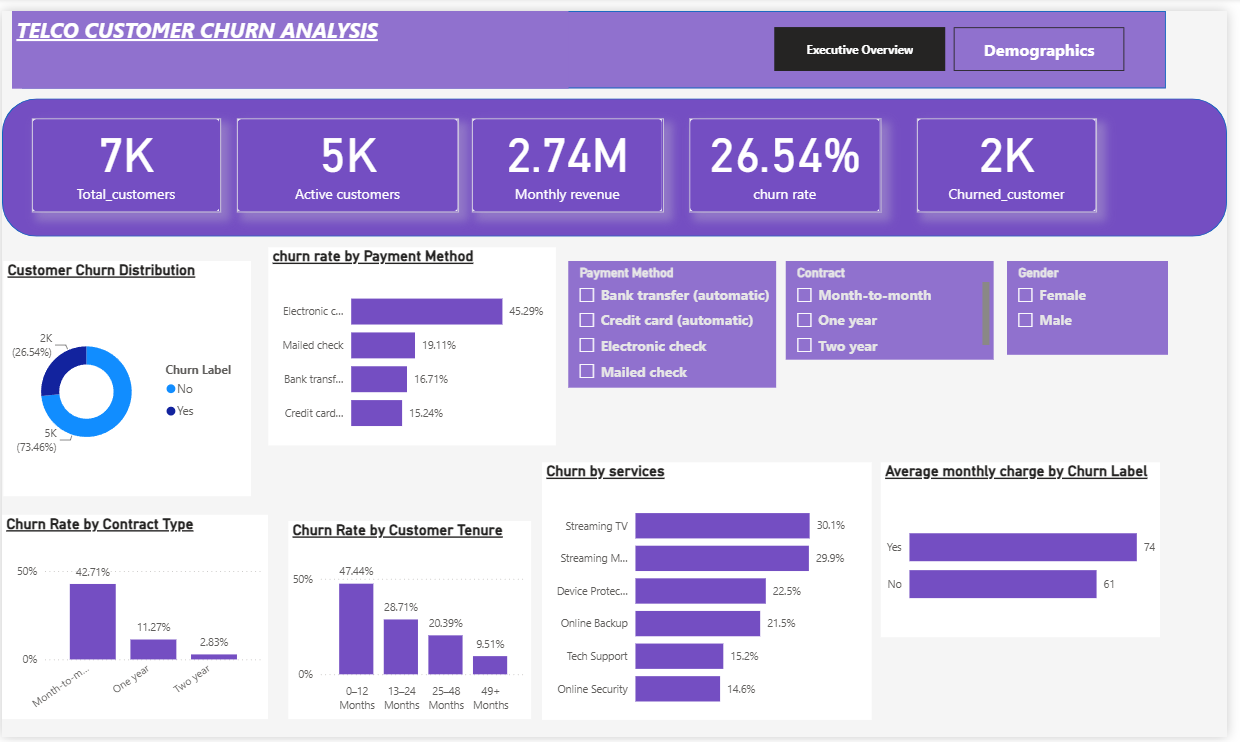

The page's visual inventory and layout, read from the dashboard file:
{"tool":"powerbi","page":{"name":"Executive Overview","canvas":[1400,830],"ordinal":0},"visuals":[{"type":"donutChart","title":"Customer Churn Distribution","fields":{"Category":["Telco_customer_churn.Churn Label"],"Y":["Telco_customer_churn.Total_customers"]},"box":[1.4,285.5,283.5,268.4],"z":1000},{"type":"clusteredColumnChart","title":"Churn Rate by Contract Type","fields":{"Category":["Telco_customer_churn.Contract"],"Y":["Telco_customer_churn.churn rate"]},"box":[0,575.4,304.3,233.3],"z":2000},{"type":"clusteredColumnChart","title":"Churn Rate by Customer Tenure","fields":{"Category":["Telco_customer_churn.Tenure Group"],"Y":["Telco_customer_churn.churn rate"]},"box":[327.5,582.6,277.5,226.2],"z":3000},{"type":"clusteredBarChart","fields":{"Category":["Telco_customer_churn.Payment Method"],"Y":["Telco_customer_churn.churn rate"]},"box":[304.3,269.6,329,226.1],"z":4000},{"type":"slicer","fields":{"Values":["Telco_customer_churn.Contract"]},"box":[895.7,285.5,237.7,113],"z":5000},{"type":"slicer","fields":{"Values":["Telco_customer_churn.Payment Method"]},"box":[647.8,285.5,237.7,144.9],"z":6000},{"type":"slicer","fields":{"Values":["Telco_customer_churn.Gender"]},"box":[1149.3,285.5,184.1,107.2],"z":7000},{"type":"clusteredBarChart","fields":{"Category":["Telco_customer_churn.Churn Label"],"Y":["Telco_customer_churn.Average monthly charge"]},"box":[1004.3,515.9,318.8,200],"z":9000},{"type":"clusteredBarChart","title":"Churn by services","fields":{"Category":["Telco_customer_churn.Services"],"Y":["Telco_customer_churn.Service Churn Rate"]},"box":[617.4,515.9,376.8,294.2],"z":10000},{"type":"shape","box":[0,100,1400,158],"z":11000},{"type":"cardVisual","fields":{"Data":["Telco_customer_churn.Total_customers"]},"box":[34.8,123.2,215.9,107.2],"z":12000},{"type":"cardVisual","fields":{"Data":["Telco_customer_churn.Active customers"]},"box":[268.1,123.2,253.6,107.2],"z":13000},{"type":"cardVisual","fields":{"Data":["Telco_customer_churn.Monthly revenue"]},"box":[537.7,123.2,218.8,107.2],"z":14000},{"type":"cardVisual","fields":{"Data":["Telco_customer_churn.churn rate"]},"box":[785.5,123.2,218.8,107.2],"z":15000},{"type":"cardVisual","fields":{"Data":["Telco_customer_churn.Churned_customer"]},"box":[1046.4,123.2,205.8,107.2],"z":16000},{"type":"shape","box":[23.2,0,1307.2,88.4],"z":16001},{"type":"textbox","box":[11.6,0,636.2,88.4],"z":16002},{"type":"pageNavigator","box":[882.6,18.8,400,50],"z":16003}]}

Visuals, with their boxes in screenshot pixels (x1, y1, x2, y2), scaled from the page's 1400x830 canvas onto the 1240x742 screenshot:
"Customer Churn Distribution" donutChart: rect(1, 255, 252, 495)
"Churn Rate by Contract Type" clusteredColumnChart: rect(0, 514, 270, 723)
"Churn Rate by Customer Tenure" clusteredColumnChart: rect(290, 521, 536, 723)
clusteredBarChart - Telco_customer_churn.Payment Method x Telco_customer_churn.churn rate: rect(270, 241, 561, 443)
slicer - Telco_customer_churn.Contract: rect(793, 255, 1004, 356)
slicer - Telco_customer_churn.Payment Method: rect(574, 255, 784, 385)
slicer - Telco_customer_churn.Gender: rect(1018, 255, 1181, 351)
clusteredBarChart - Telco_customer_churn.Churn Label x Telco_customer_churn.Average monthly charge: rect(890, 461, 1172, 640)
"Churn by services" clusteredBarChart: rect(547, 461, 881, 724)
shape: rect(0, 89, 1239, 231)
cardVisual - Telco_customer_churn.Total_customers: rect(31, 110, 222, 206)
cardVisual - Telco_customer_churn.Active customers: rect(237, 110, 462, 206)
cardVisual - Telco_customer_churn.Monthly revenue: rect(476, 110, 670, 206)
cardVisual - Telco_customer_churn.churn rate: rect(696, 110, 890, 206)
cardVisual - Telco_customer_churn.Churned_customer: rect(927, 110, 1109, 206)
shape: rect(21, 0, 1178, 79)
textbox: rect(10, 0, 574, 79)
pageNavigator: rect(782, 17, 1136, 62)
